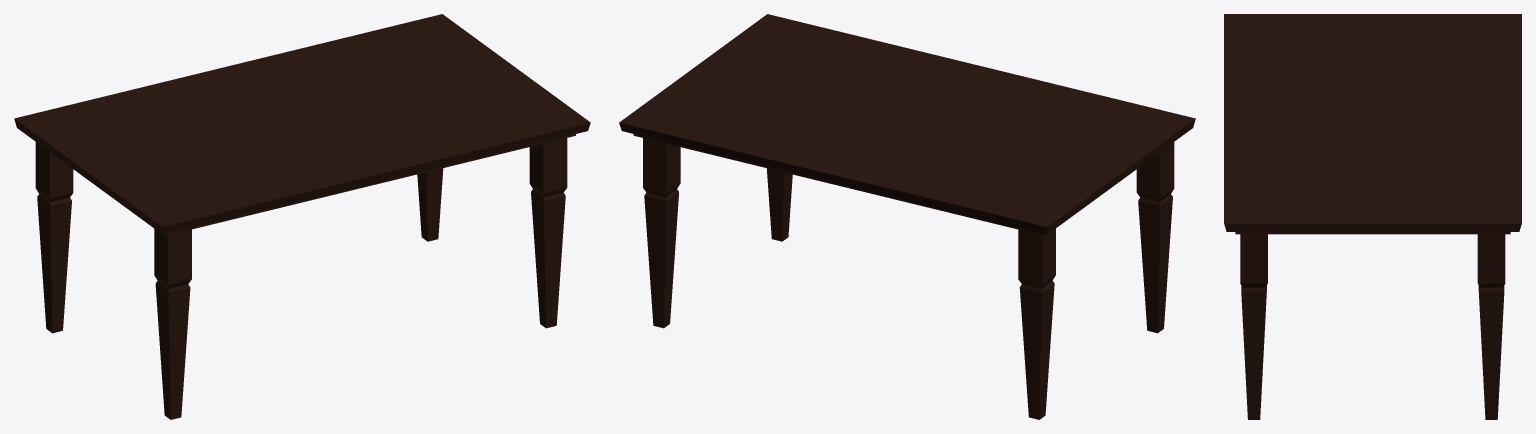
File: Table.fbx
3 renders of one model, left to right at view 1: azimuth 30°, elevation 25°; view 2: azimuth 150°, elevation 25°; view 3: azimuth 270°, elevation 25°, orthographic.
Visible parts, largest first — view 1: Куб; view 2: Куб; view 3: Куб.
Part boxes in pixels (x1,y1,x2,y2): Куб: (14,14,590,419); Куб: (619,14,1195,419); Куб: (1224,14,1521,419).
Bounding box in the file's own units: 1000 × 461 × 600.
